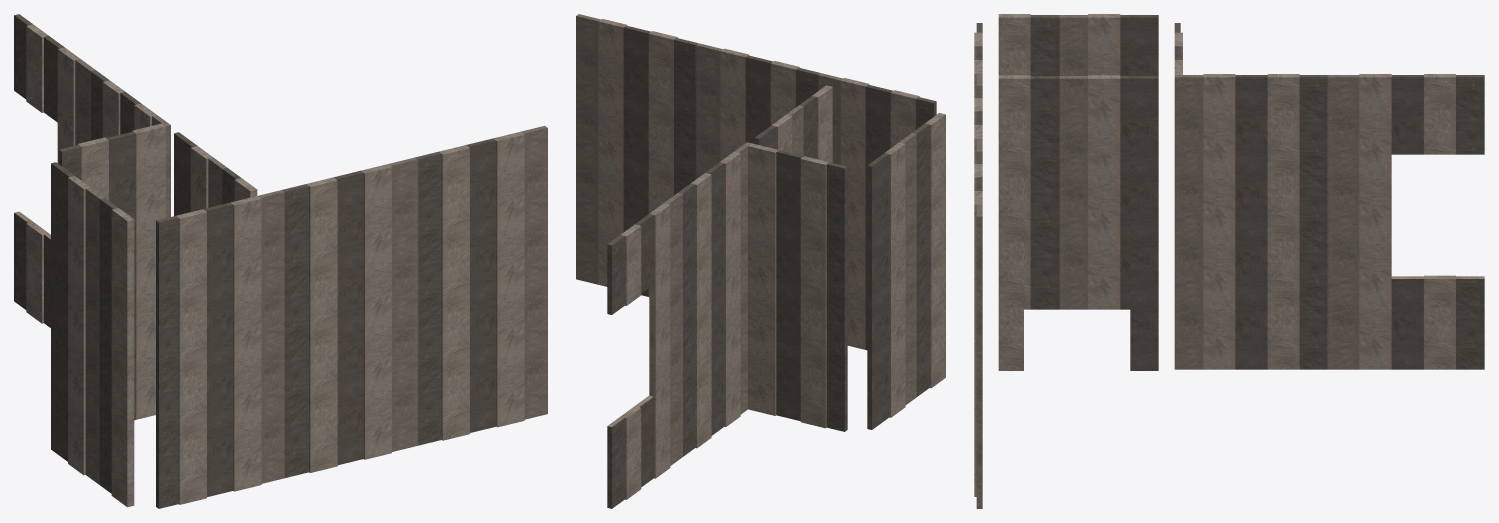
The model's file is ShedWallBack.fbx.
3 views of the same model, side by side, from view 1: azimuth 30°, elevation 25°; view 2: azimuth 150°, elevation 25°; view 3: azimuth 270°, elevation 25° (orthographic). The views are drawn at different scales.
Parts seen in each view (by area): view 1: ShedWallBack; view 2: ShedWallBack; view 3: ShedWallBack.
Part boxes in pixels (left/top/right/bottom): ShedWallBack: left=14, top=14, right=547, bottom=508; ShedWallBack: left=576, top=14, right=945, bottom=508; ShedWallBack: left=974, top=14, right=1484, bottom=508.
Bounding box in the file's own units: 480 × 322 × 508.
